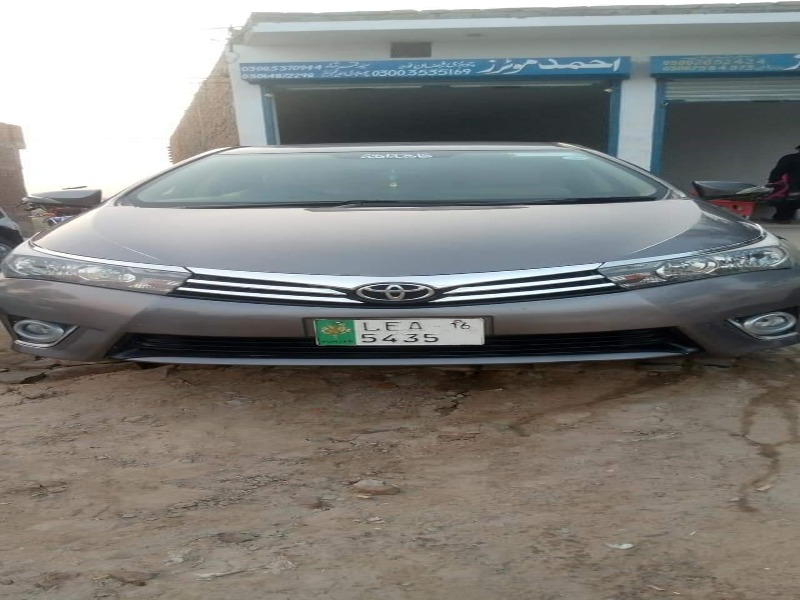License Plate: (307, 313, 492, 355)
